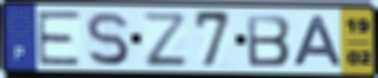7: (192, 9, 234, 71)
A: (289, 14, 346, 69)
B: (244, 12, 293, 68)
E: (35, 9, 83, 67)
S: (83, 10, 132, 67)
Z: (139, 10, 190, 68)
